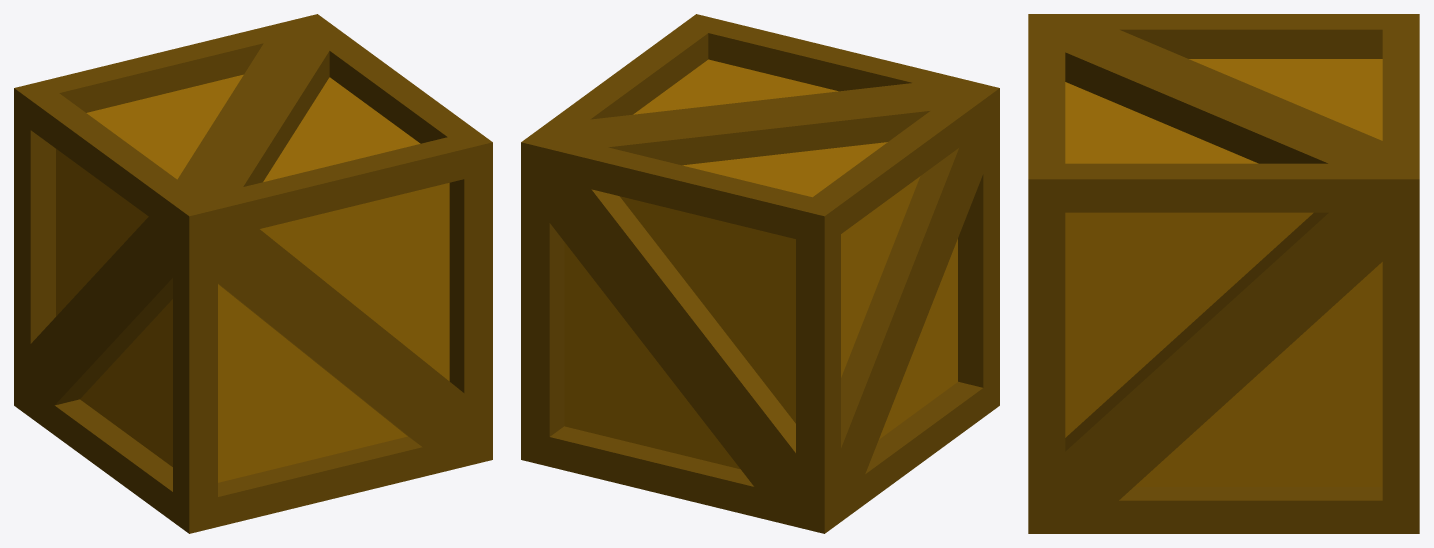
The model's file is Crate.fbx.
3 views of the same model, side by side, from view 1: azimuth 30°, elevation 25°; view 2: azimuth 150°, elevation 25°; view 3: azimuth 270°, elevation 25° (orthographic). The views are drawn at different scales.
Visible parts, largest first — view 1: Crate; view 2: Crate; view 3: Crate.
Boxes of the visible parts, <box> form: Crate: <box>14,14,492,533</box>; Crate: <box>521,14,999,533</box>; Crate: <box>1028,14,1419,533</box>.
Size of the model in its own units: 60 by 60 by 60.
